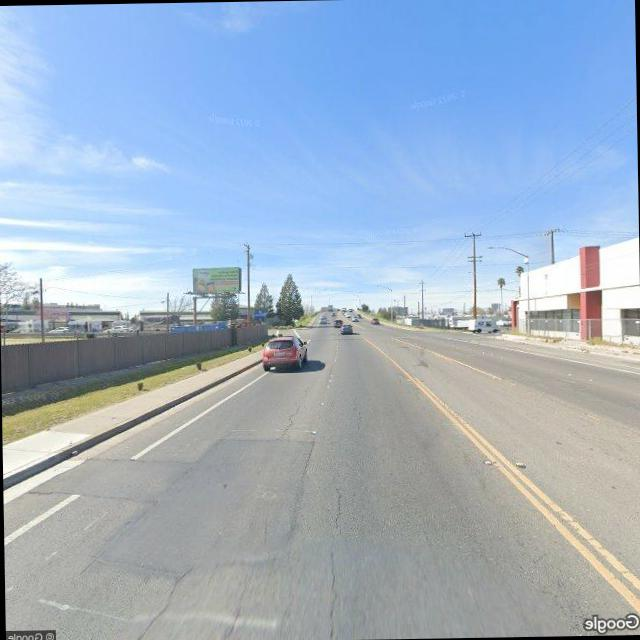pothole: (275, 380, 312, 439), (329, 482, 348, 534)
